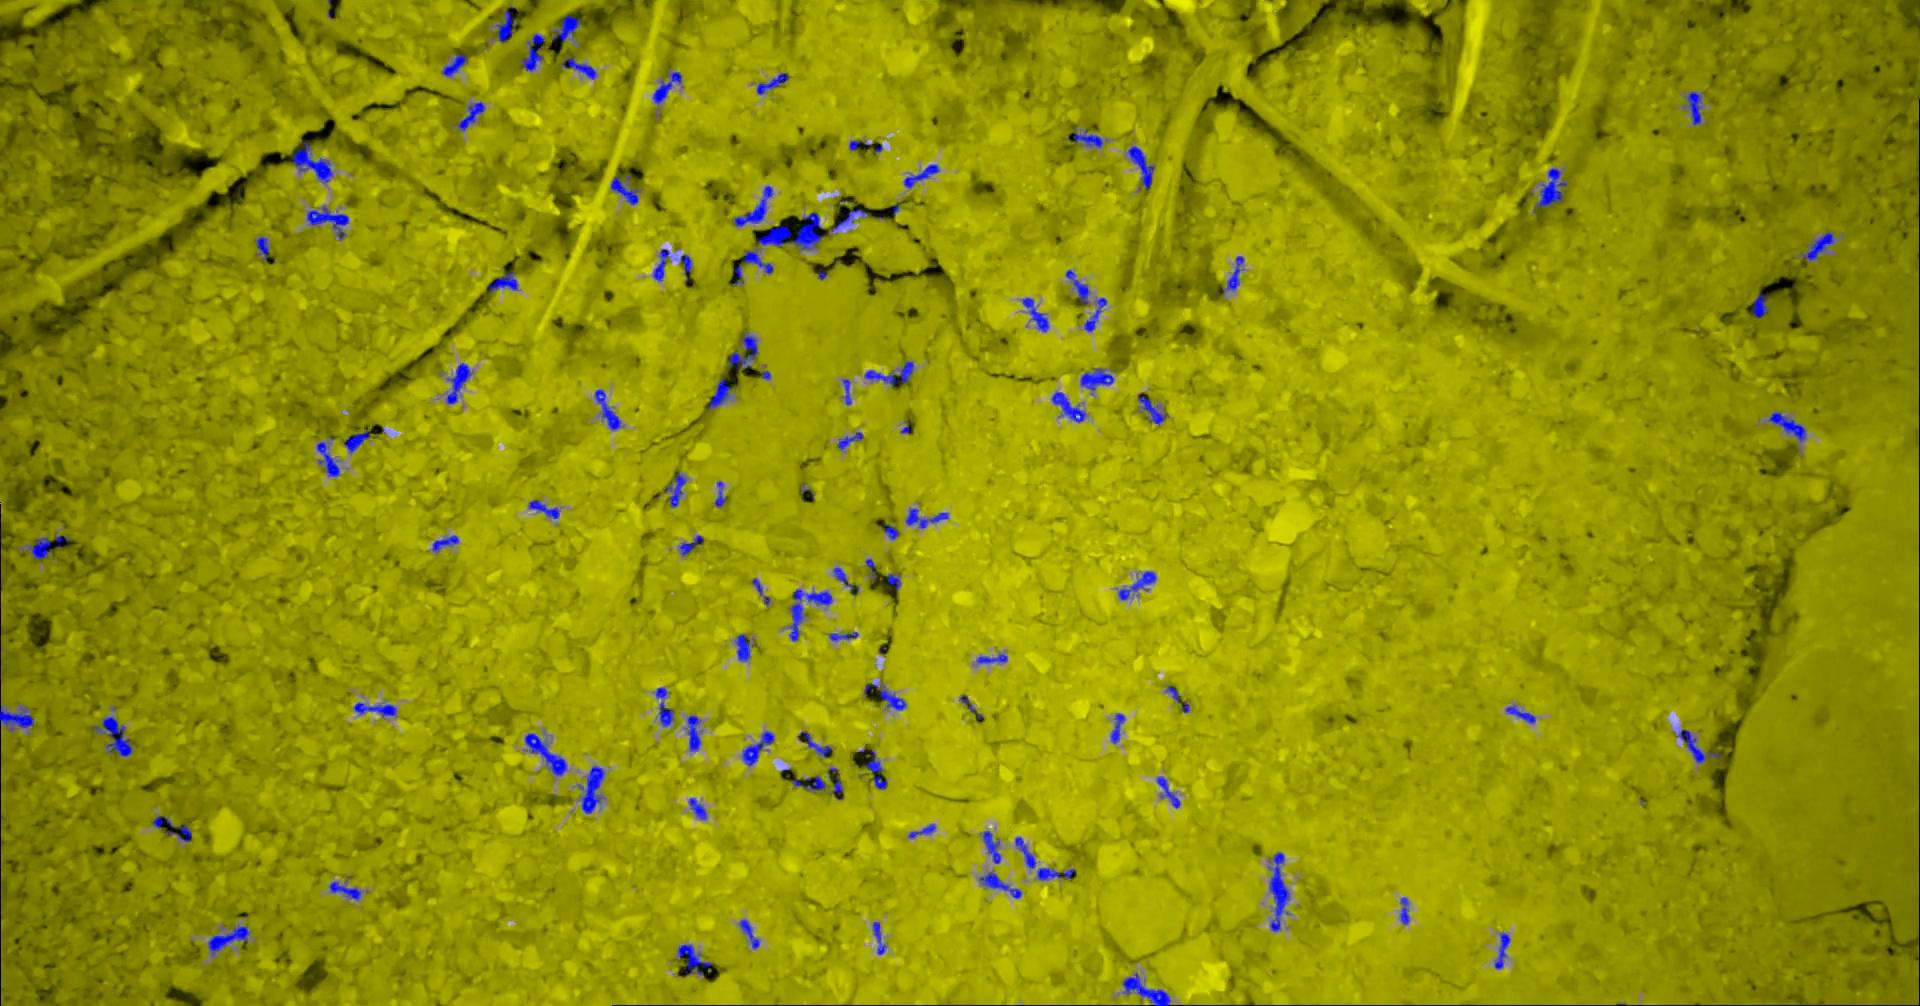ant: (1016, 837, 1076, 880), (791, 589, 833, 640), (526, 733, 569, 775), (1270, 852, 1291, 931), (293, 141, 334, 182), (735, 185, 775, 226), (1124, 972, 1172, 1005), (95, 716, 135, 756), (733, 249, 775, 285), (1677, 729, 1721, 763), (1535, 166, 1568, 211), (309, 207, 350, 239), (210, 925, 251, 955), (866, 361, 916, 386), (580, 765, 606, 813), (728, 332, 759, 368), (1129, 146, 1156, 188), (982, 871, 1023, 898), (1769, 412, 1807, 441), (679, 942, 712, 976), (743, 730, 775, 765), (596, 389, 622, 429), (1119, 572, 1157, 600), (865, 683, 907, 709), (1053, 391, 1087, 422), (447, 362, 472, 403), (152, 815, 193, 841), (654, 71, 683, 104), (1139, 392, 1168, 426), (1023, 297, 1050, 332), (1804, 231, 1835, 260), (522, 33, 546, 70), (1222, 255, 1244, 293), (1, 705, 36, 730), (800, 730, 834, 756), (905, 164, 941, 188), (833, 208, 869, 232), (317, 441, 342, 476), (866, 749, 888, 789), (1067, 269, 1091, 304), (1084, 297, 1109, 332), (907, 508, 950, 527), (612, 175, 640, 205), (552, 14, 583, 41), (563, 56, 598, 79), (665, 471, 688, 506), (458, 102, 486, 130), (497, 6, 518, 42), (657, 687, 676, 727), (1069, 126, 1103, 147), (1082, 368, 1115, 390), (834, 567, 860, 594), (1158, 776, 1181, 807), (758, 72, 790, 94), (1167, 685, 1191, 713), (709, 379, 731, 408), (489, 271, 519, 291), (530, 499, 561, 518), (984, 829, 1002, 862), (356, 702, 397, 716), (345, 429, 371, 452), (1507, 704, 1537, 723), (444, 53, 469, 76), (29, 536, 53, 559), (654, 248, 670, 281), (331, 882, 362, 899), (1496, 932, 1511, 968), (737, 633, 756, 661), (742, 920, 761, 948), (1688, 91, 1703, 124), (794, 775, 827, 790), (688, 715, 702, 751), (681, 535, 705, 555), (829, 767, 844, 799), (838, 431, 865, 448), (874, 921, 888, 954), (433, 535, 460, 551), (690, 796, 709, 819), (1752, 293, 1770, 318), (1112, 713, 1126, 743), (909, 823, 937, 837), (257, 236, 270, 260), (978, 653, 1010, 663), (682, 254, 693, 281), (883, 523, 902, 539), (716, 481, 728, 506), (1401, 897, 1411, 923), (830, 631, 860, 640), (850, 140, 872, 150), (888, 573, 902, 589), (844, 379, 853, 404), (867, 558, 877, 579)
